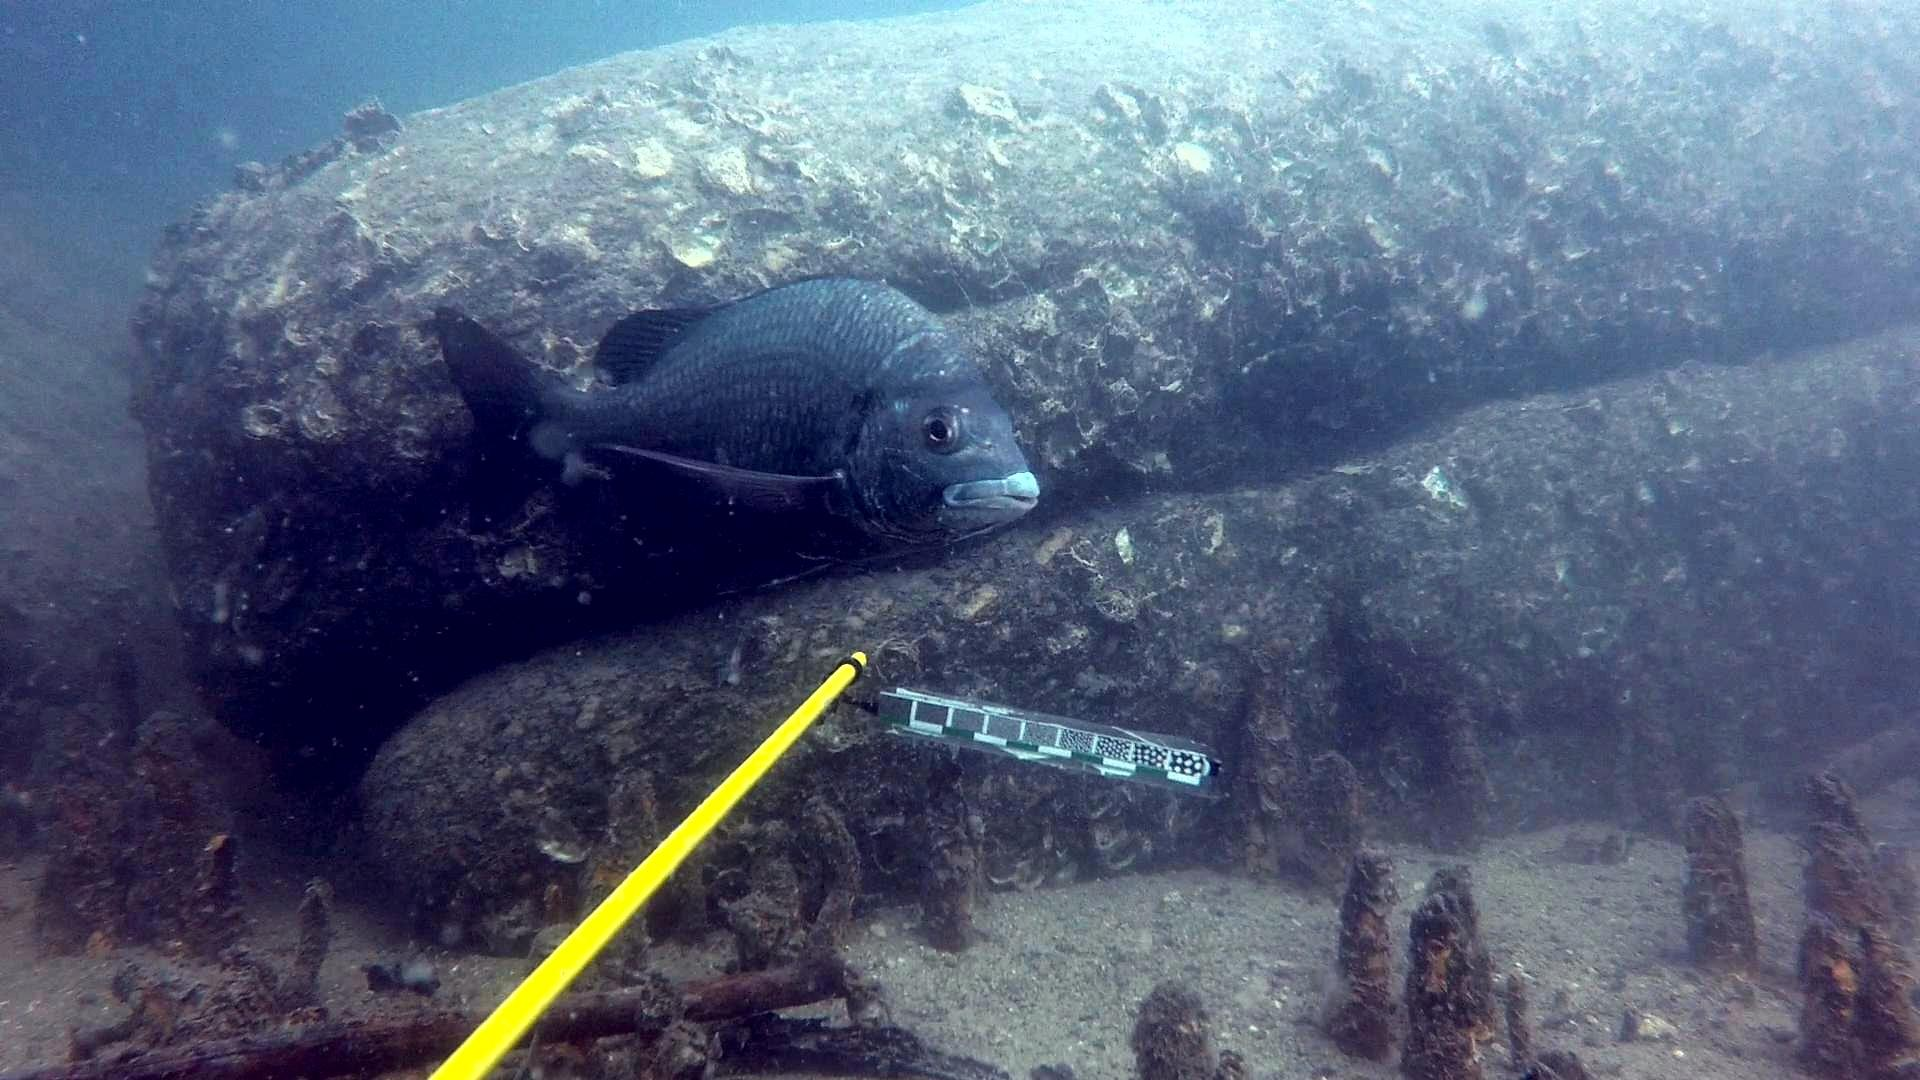acanthopagrus palmaris: (415, 270, 1048, 570)
